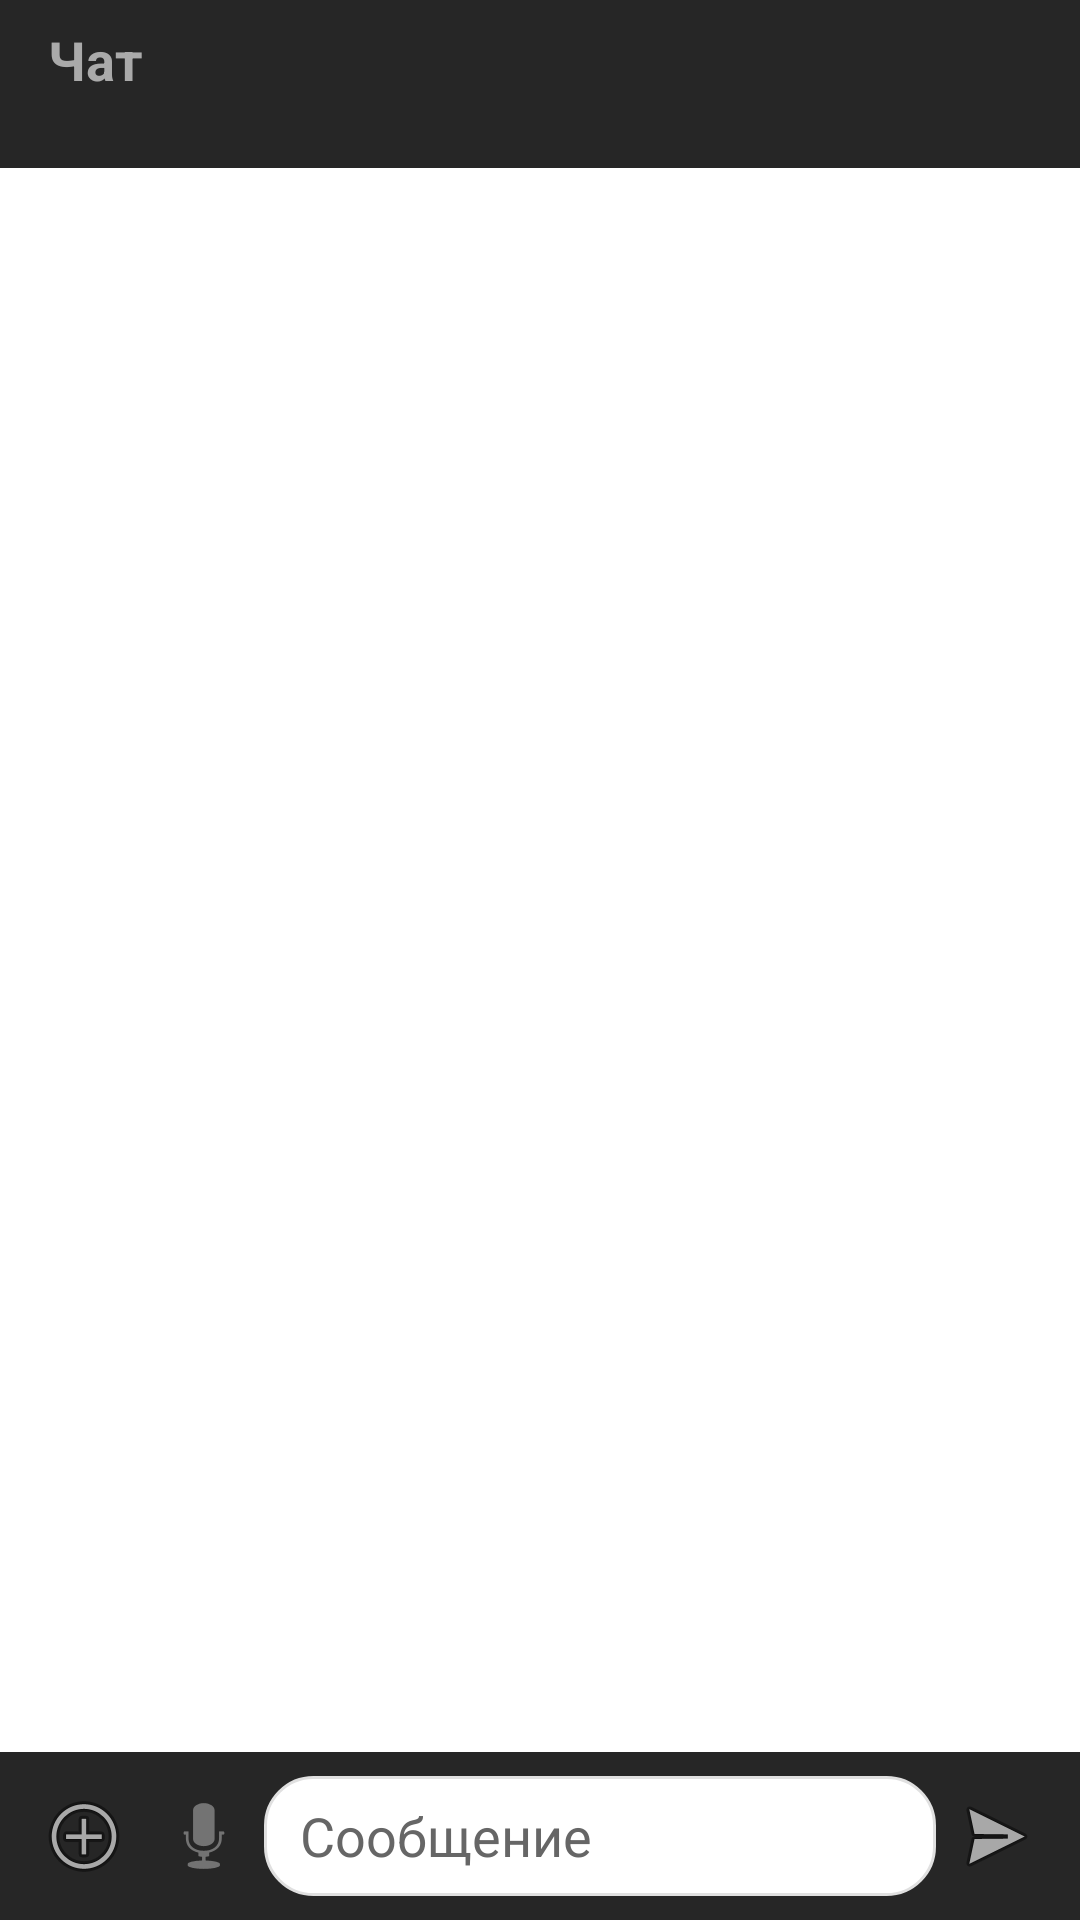

Icons on this 1080*1920 Android screen, each with the point to tap as (x,y):
Вложение: (84,1836)
Запись: (204,1836)
Отправить: (996,1836)
